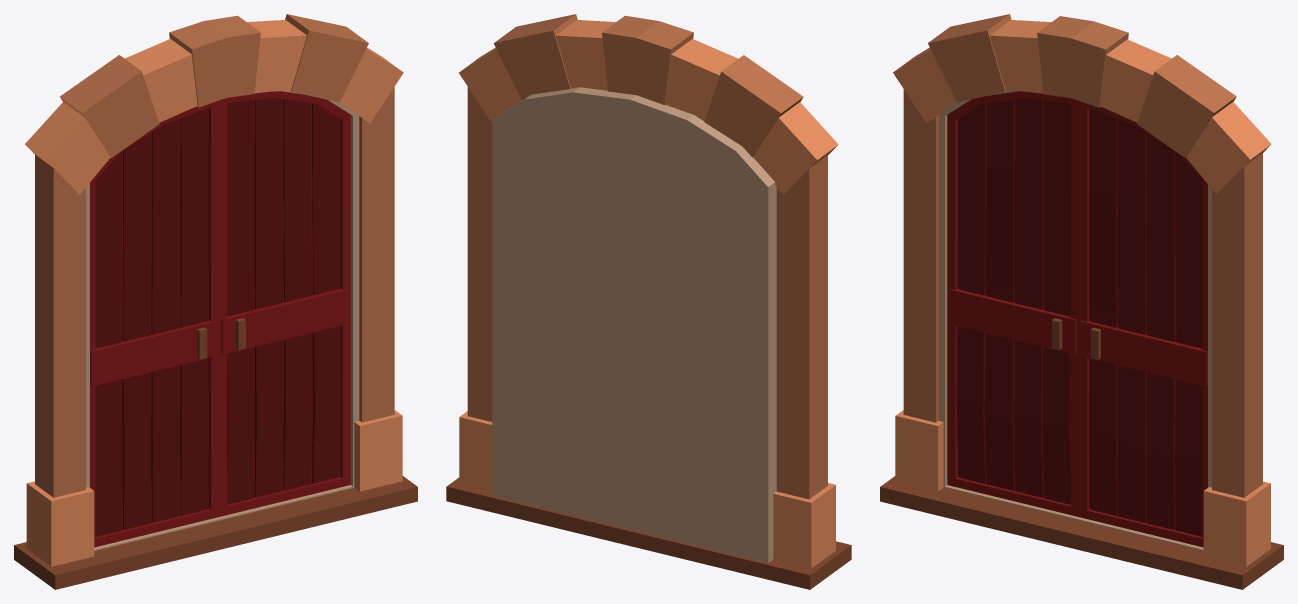
The model's file is village_pack_door_1.glb.
The picture shows the model from 3 angles, left to right: view 1: azimuth 30°, elevation 25°; view 2: azimuth 150°, elevation 25°; view 3: azimuth 330°, elevation 25°; orthographic projection.
Visible parts, largest first — view 1: door 1_brick 1_0; view 2: door 1_brick 1_0; view 3: door 1_brick 1_0.
Boxes of the visible parts, box(x1,y1,x2,y2) form: door 1_brick 1_0: box(14, 14, 417, 589); door 1_brick 1_0: box(446, 14, 851, 589); door 1_brick 1_0: box(880, 14, 1283, 589).
Bounding box in the file's own units: 2.02 × 2.67 × 0.3988.
